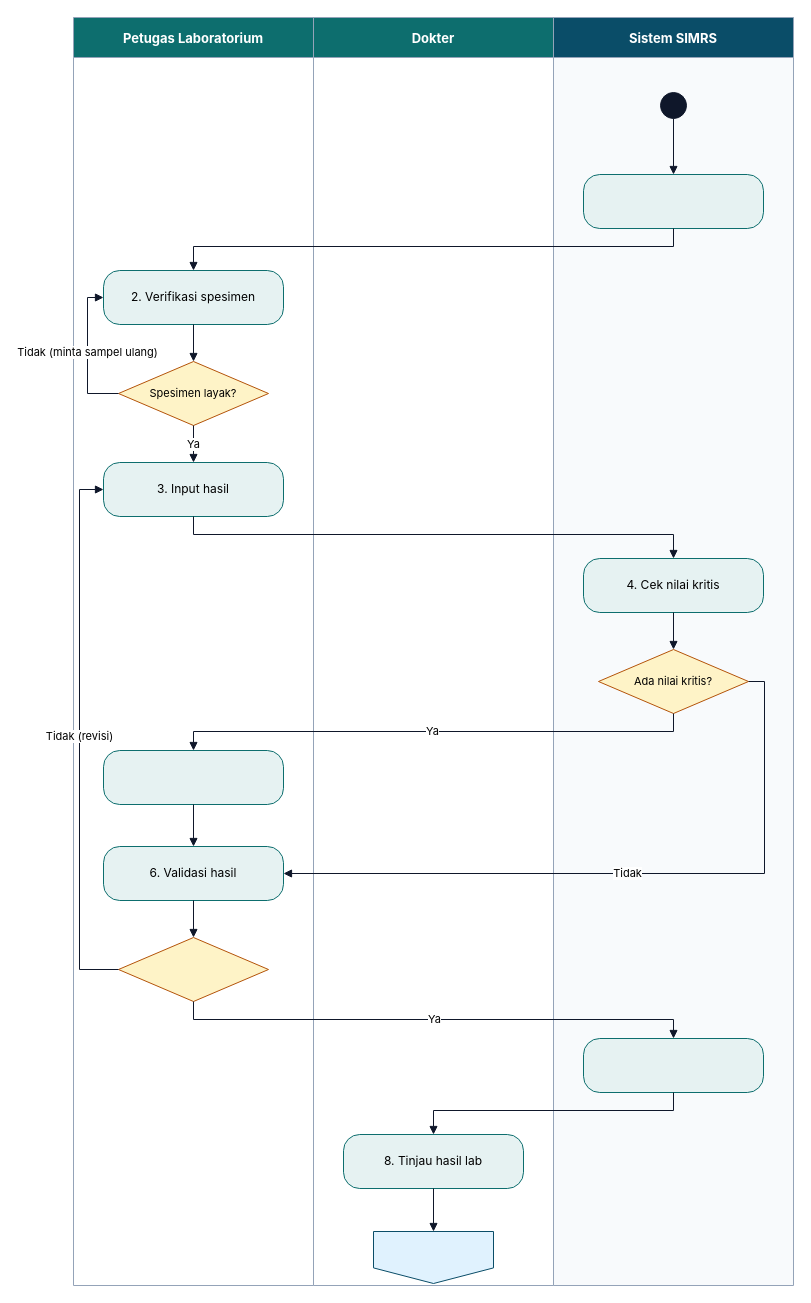
Some shapes in this 811 by 1303 pixel diagram are drawn without their labels. Each missing label, with the centre of its shape:
1. Order lab masuk: (x=673, y=201)
5. Laporkan nilai kritis: (x=193, y=777)
7. Terbitkan hasil final: (x=673, y=1065)
Hasil benar?: (x=193, y=969)
Ke Modul EMR: (x=433, y=1257)
